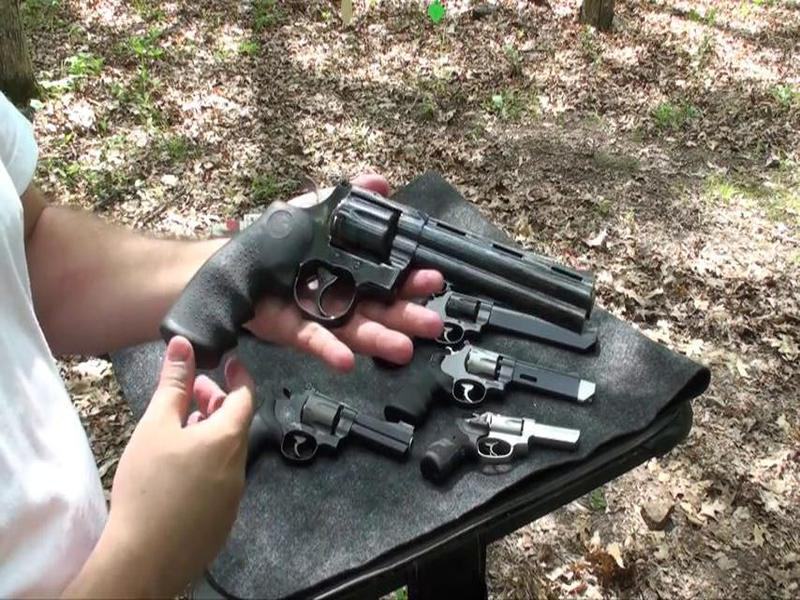Revolver: (150, 167, 589, 386)
